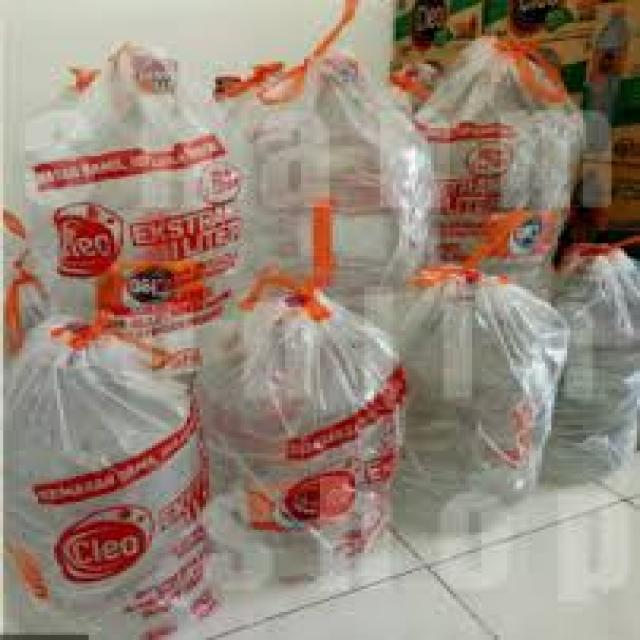Galon: (19, 42, 634, 590)
